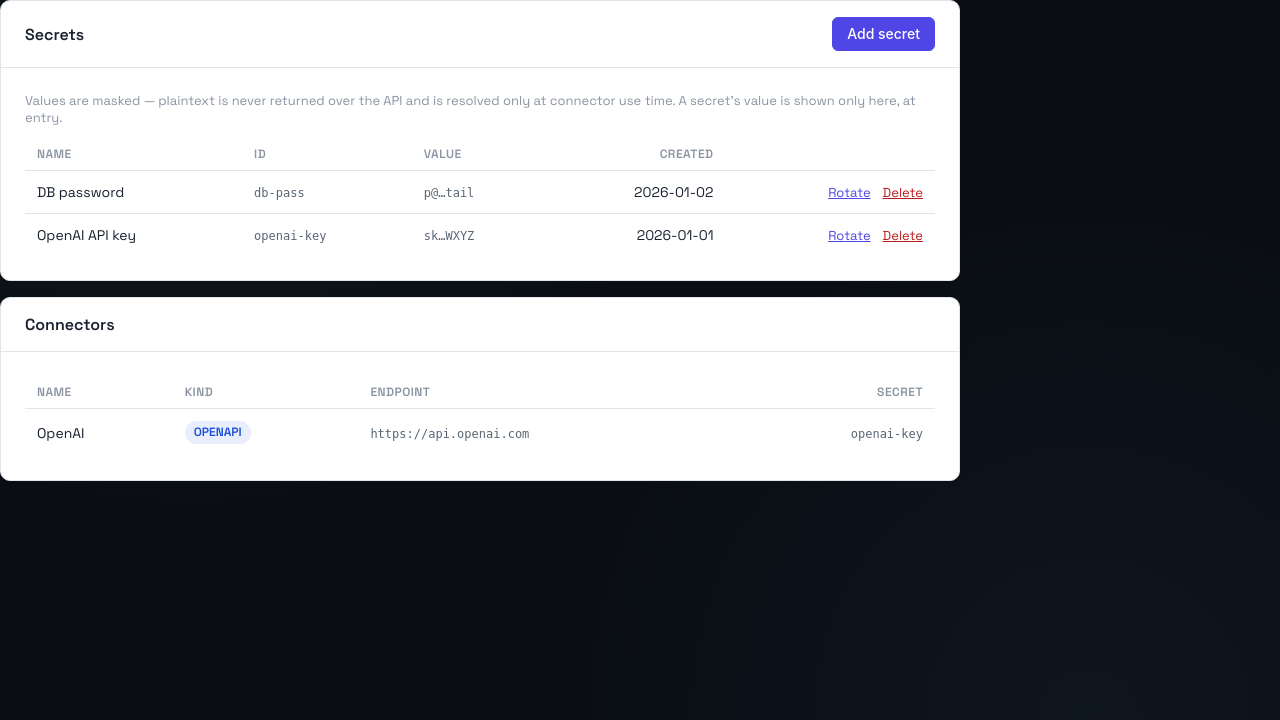
SecretsScreen write-path (S115) › creates a secret: opens the form, submits, and reloads the list
The width and height of the screenshot is (1280, 720).
Click the button with test id "secret-add-open" at (884, 34), box 832,17 -> 935,51
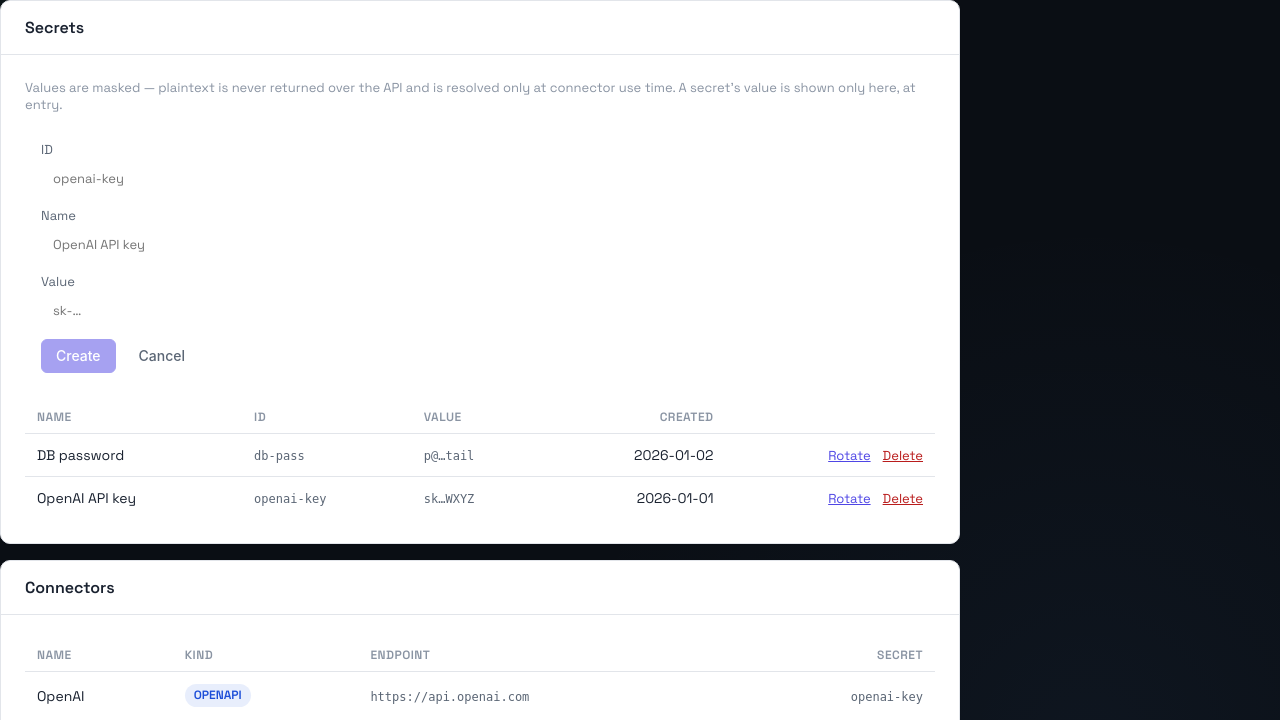
Type "stripe-key" into the field with test id "secret-add-id" at (480, 178), box 41,162 -> 919,195
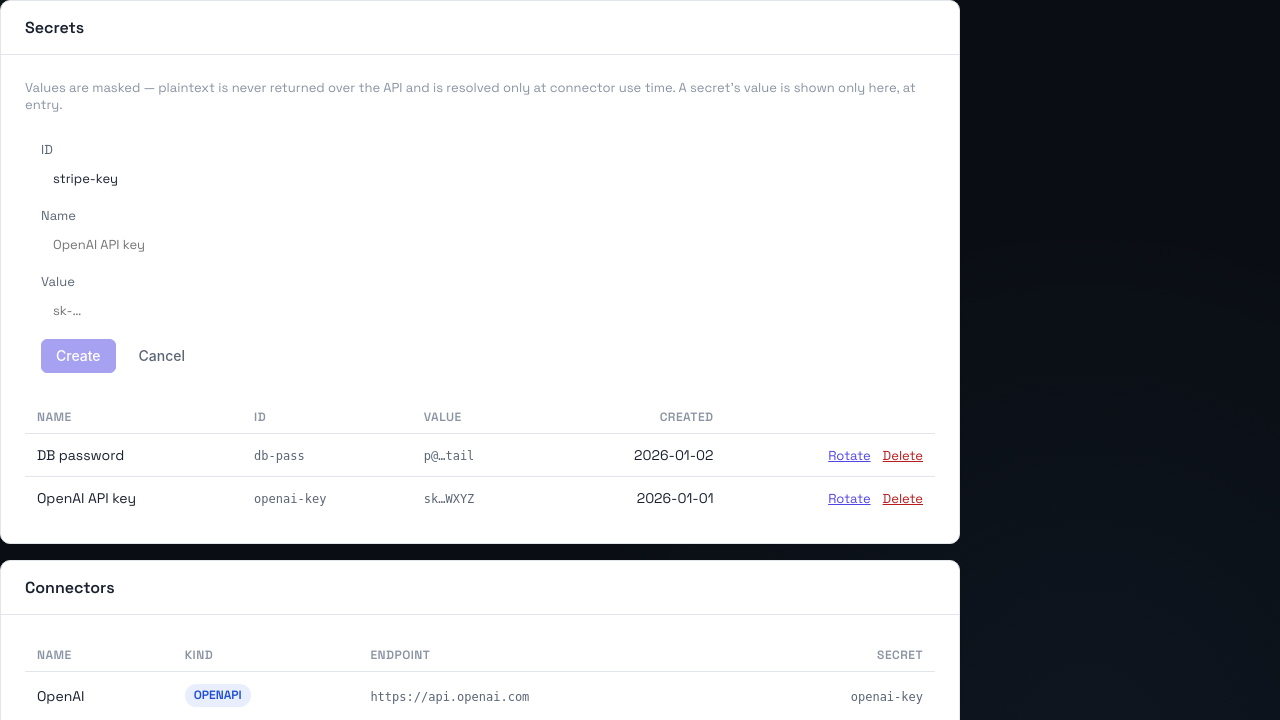
Type "Stripe key" into the field with test id "secret-add-name" at (480, 244), box 41,228 -> 919,261
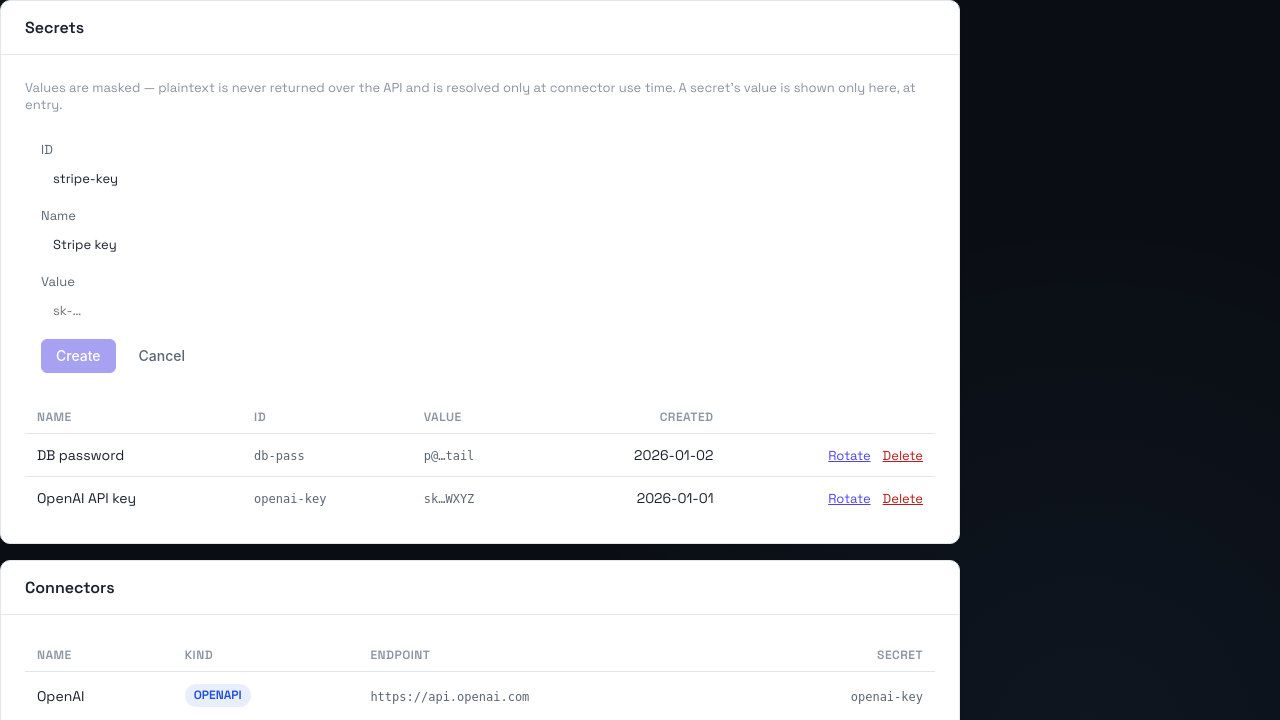
Type "sk-live-123456" into the password field with test id "secret-add-value" at (480, 310), box 41,294 -> 919,327
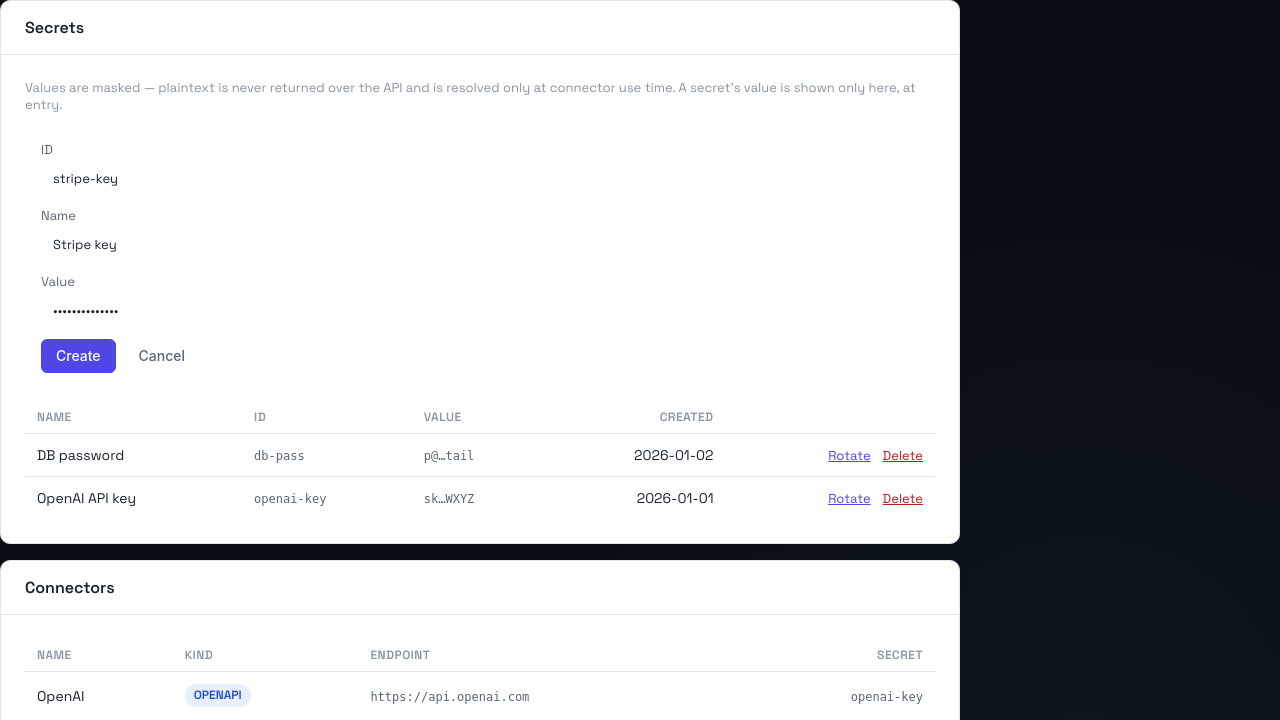
Click the button with test id "secret-add-submit" at (78, 356), box 41,339 -> 116,373
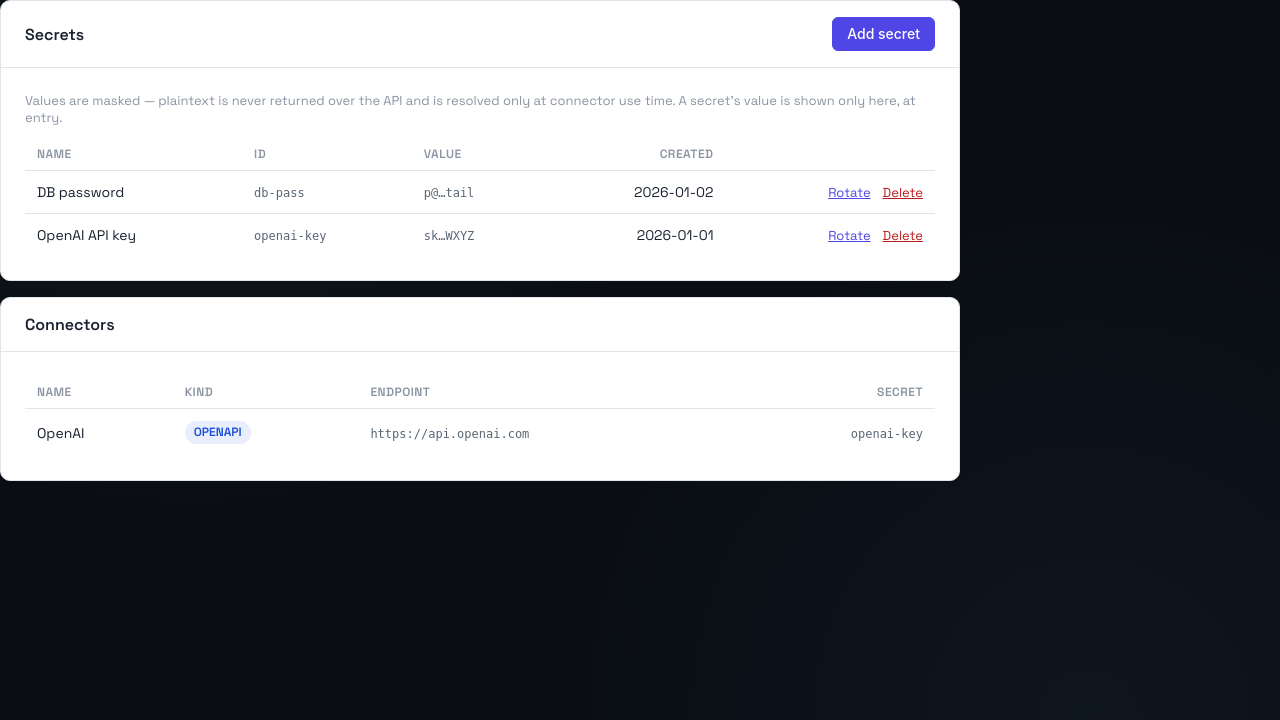
Expected: the element with test id "secret-add-form" is gone
